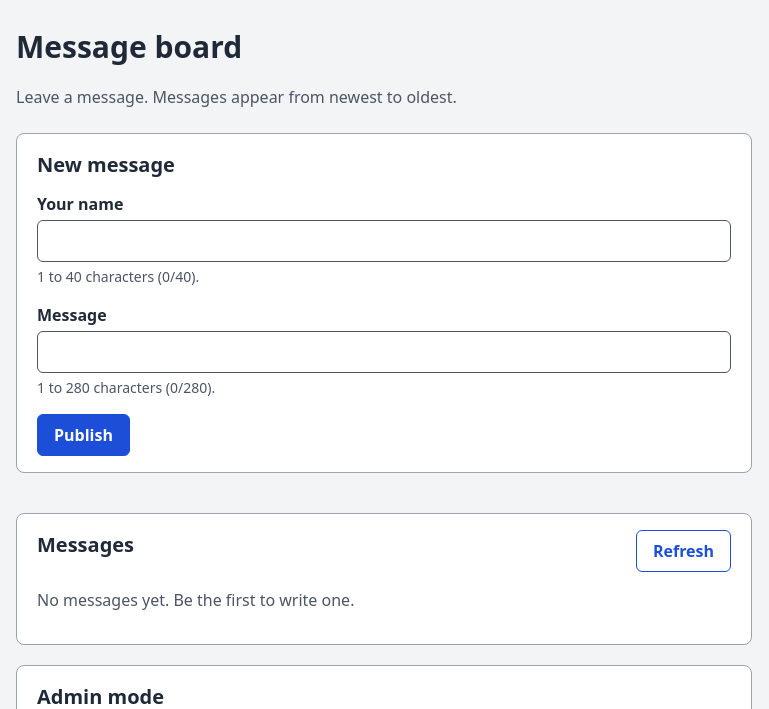
it: App › shows API errors in an alert and keeps the draft
Type "Ana" into the field labelled "Your name" at (384, 241), box [37, 220, 731, 262]
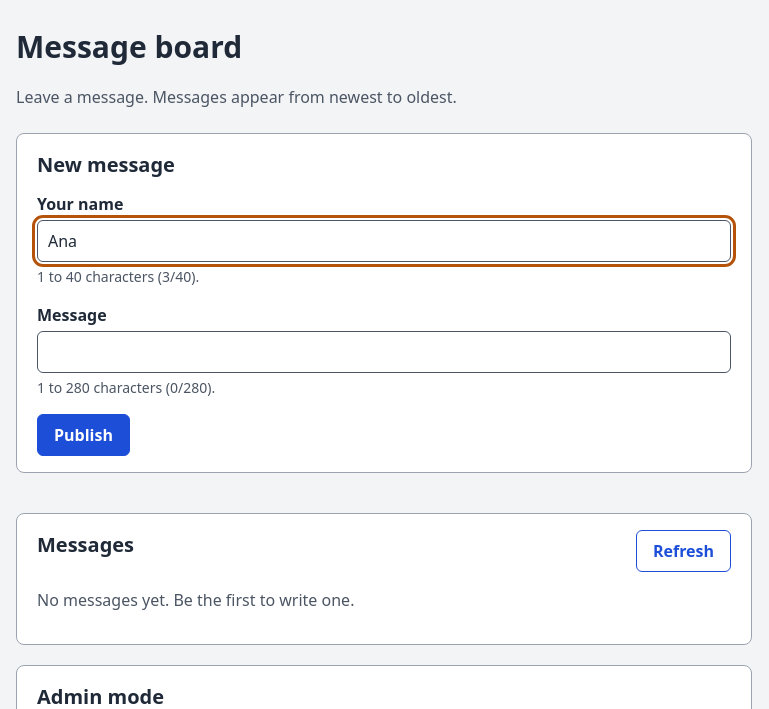
Type "de novo" into the field labelled "Message" at (384, 352), box [37, 331, 731, 373]
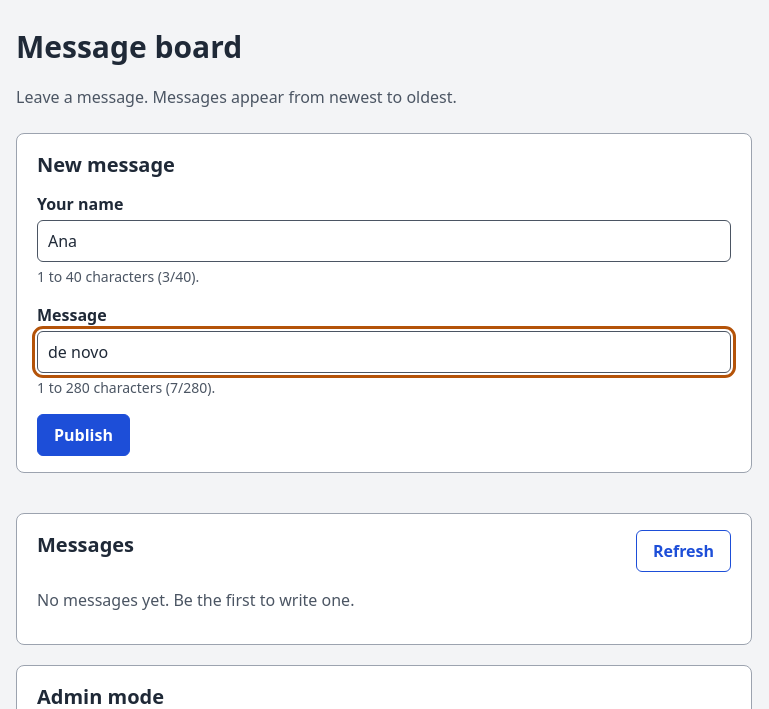
Click the button "Publish" at (83, 435), box [37, 414, 130, 456]
(page scrolled)
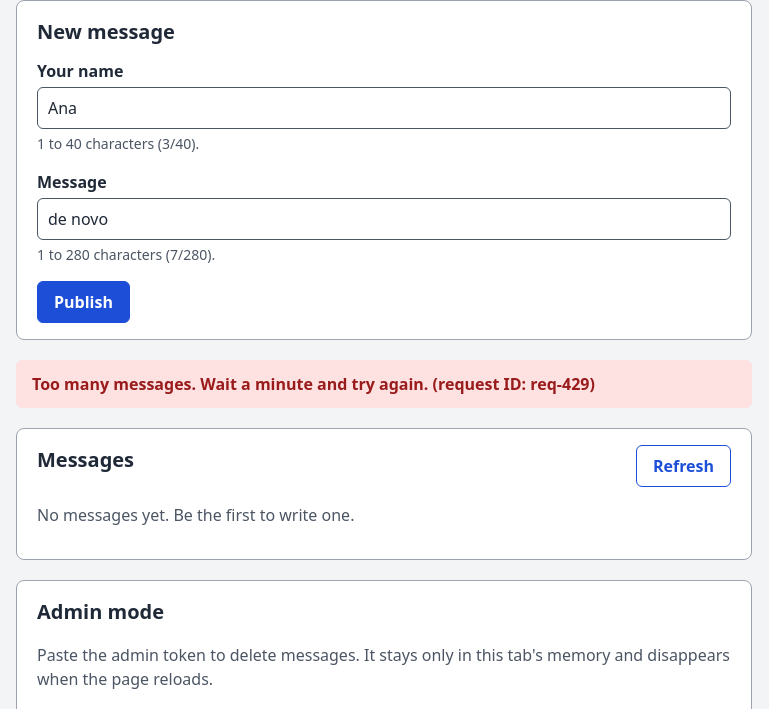
Result: the message reads "Too many messages. Wait a minute and try again. (request ID: req-429)" at [32, 373, 595, 395]
